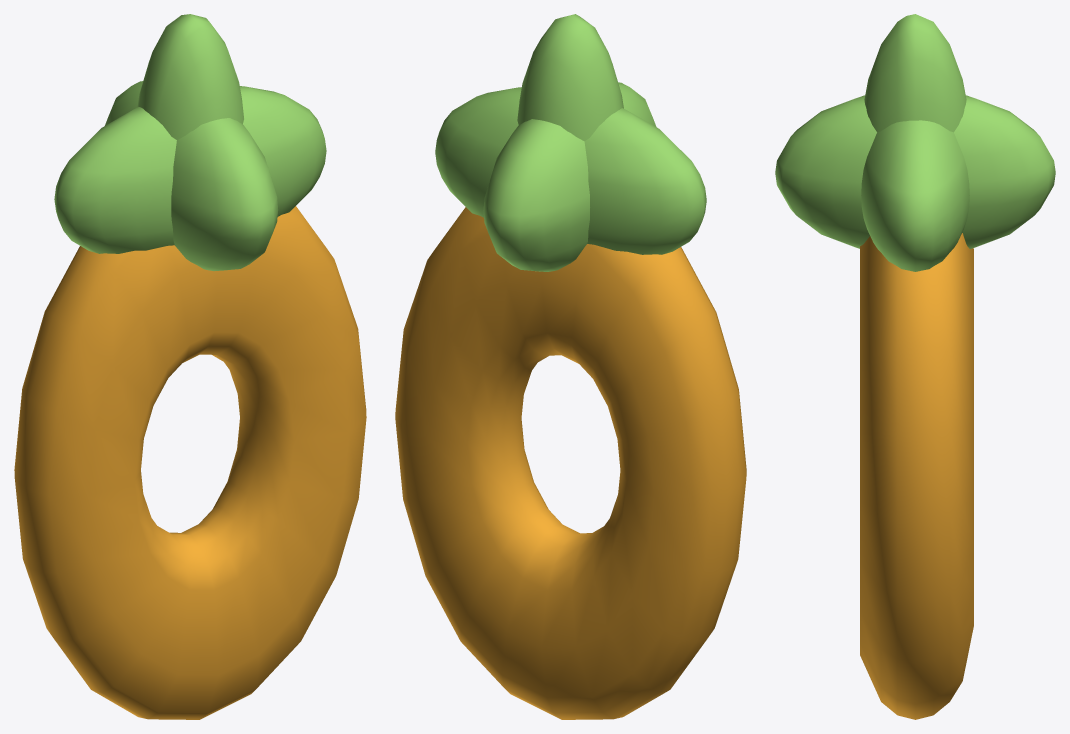
File: puffito.obj
3 renders of one model, left to right at view 1: azimuth 30°, elevation 25°; view 2: azimuth 150°, elevation 25°; view 3: azimuth 270°, elevation 25°, orthographic.
Visible parts, largest first — view 1: puffito; view 2: puffito; view 3: puffito.
Boxes of the visible parts, x1=… form: puffito: x1=14, y1=14, x2=366, y2=719; puffito: x1=395, y1=14, x2=746, y2=719; puffito: x1=775, y1=14, x2=1055, y2=719.
Bounding box in the file's own units: 0.33 × 0.655 × 0.24.
